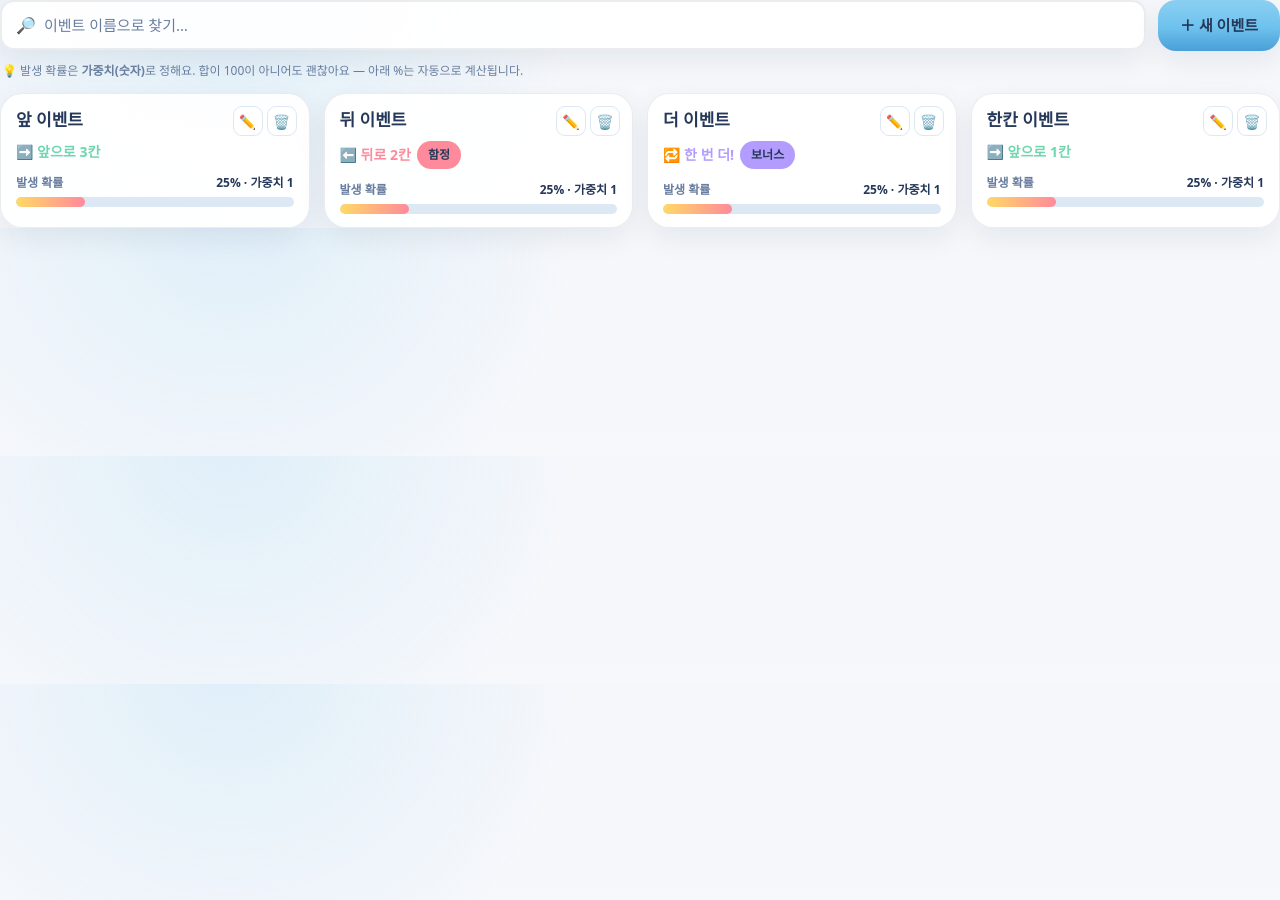
Test: EventTab (search + live probability + edit/delete) › deletes an event after a confirm dialog that names it
Step 1. Click the button named "뒤 이벤트 삭제" → (605, 121), box [590, 106, 620, 136]
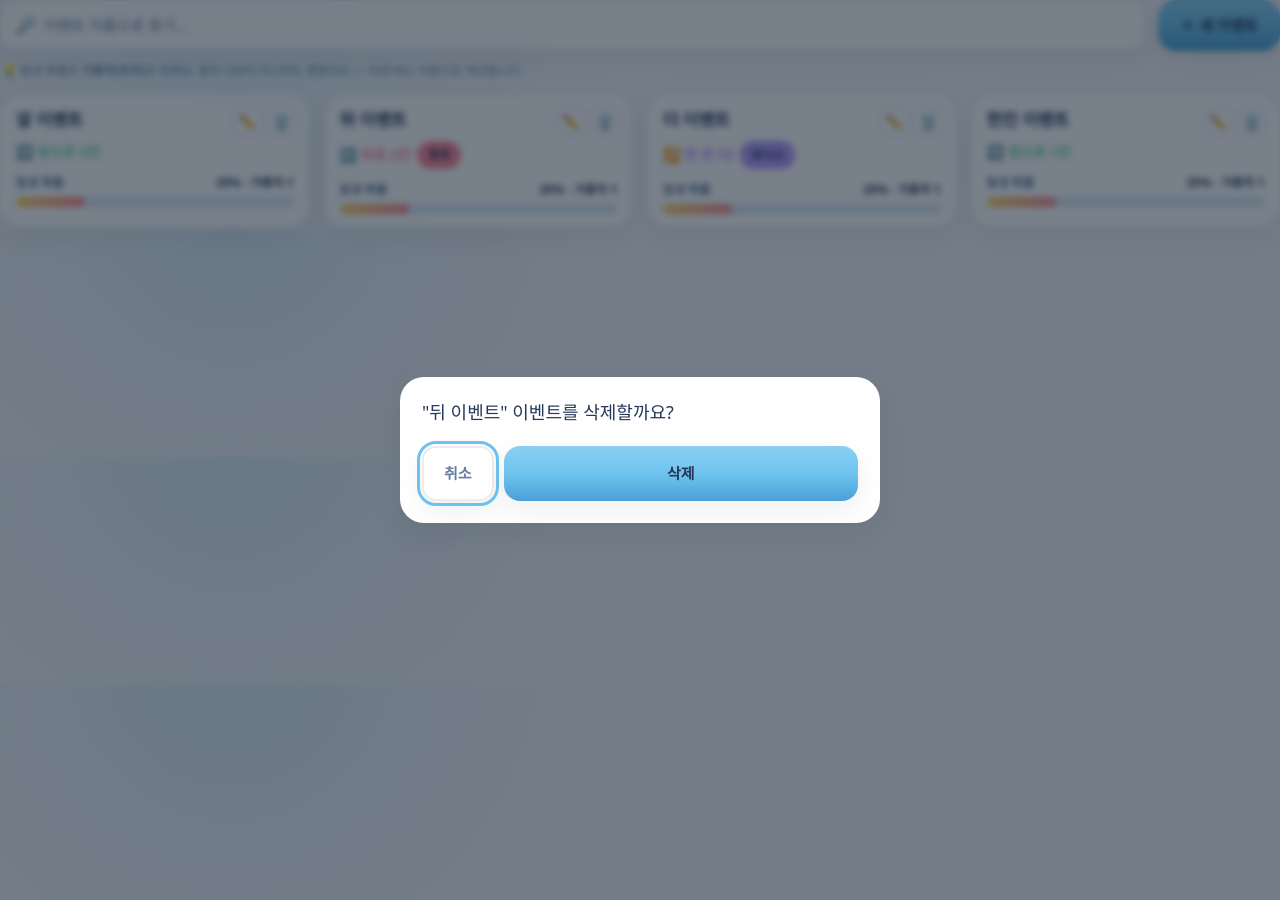
expect the heading "\"뒤 이벤트\" 이벤트를 삭제할까요?" is shown: met, box [422, 400, 674, 424]
Step 2. Click the button "삭제" → (681, 474), box [504, 446, 858, 501]
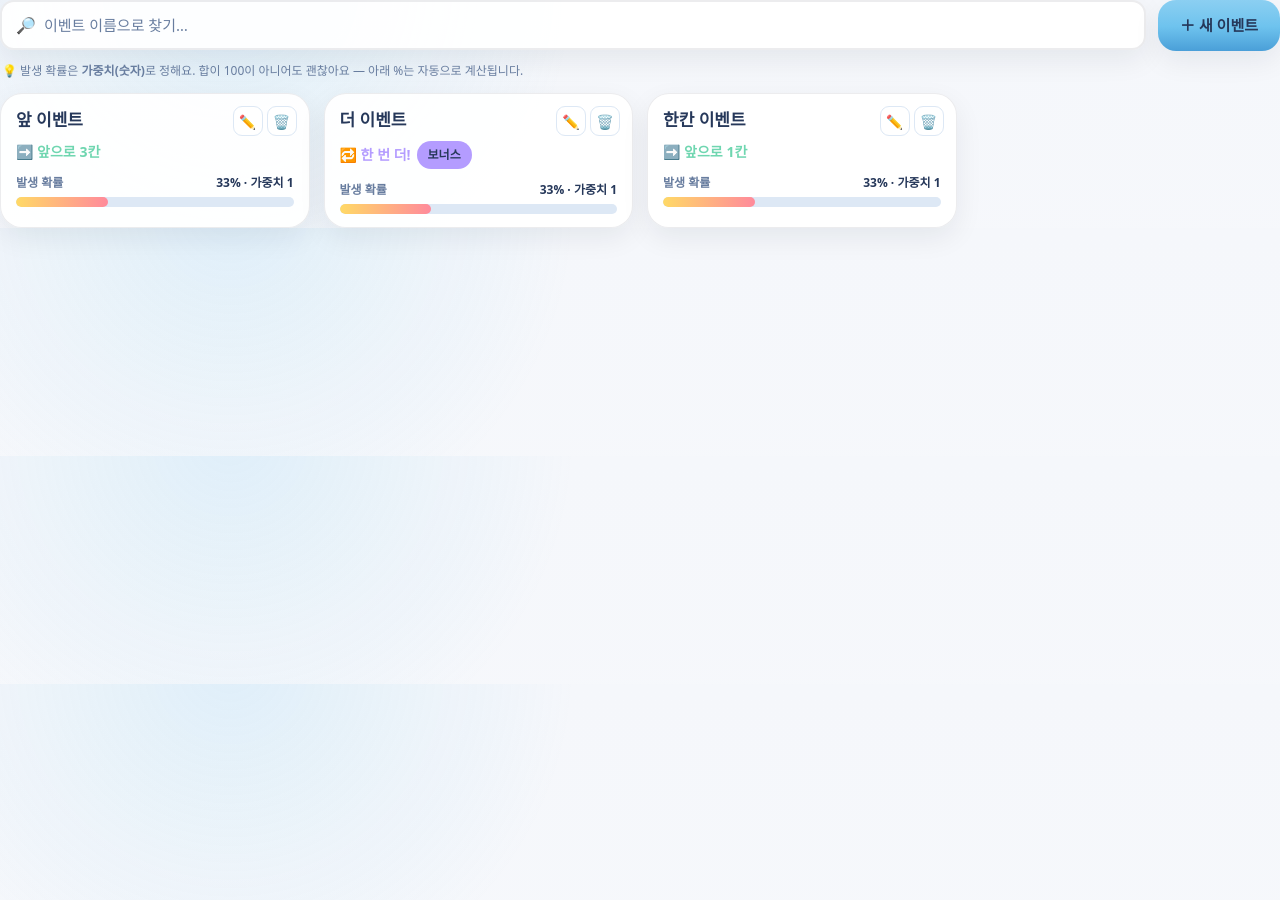
expect the text "뒤 이벤트" is gone: met
